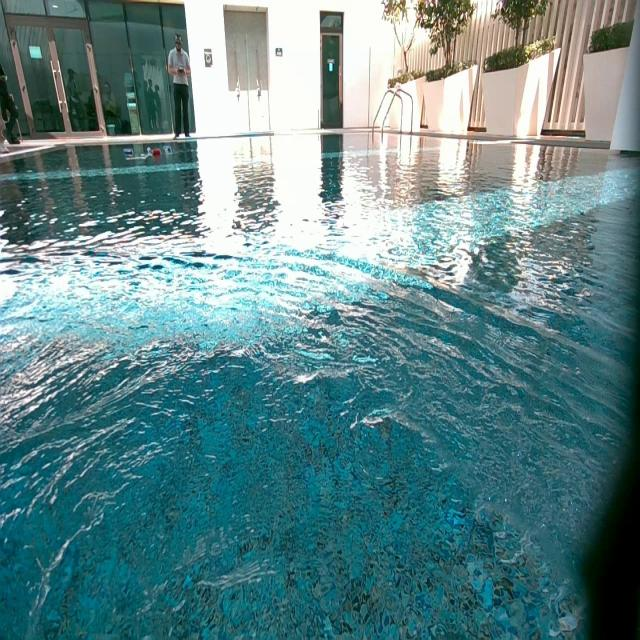Cans: (151, 147, 160, 158), (125, 147, 134, 157), (163, 146, 173, 155), (147, 148, 152, 156)
